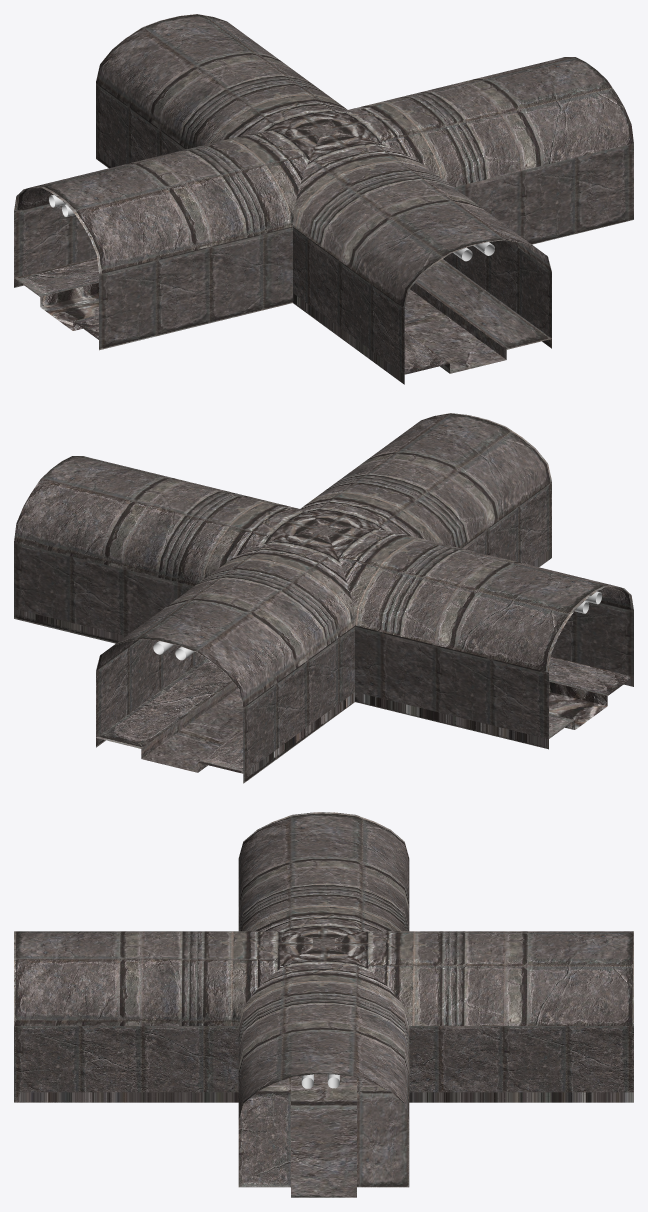
Rendered from 하수구 십자가 통로.fbx.
3 renders of one model, top to bottom at view 1: azimuth 30°, elevation 25°; view 2: azimuth 150°, elevation 25°; view 3: azimuth 270°, elevation 25°, orthographic.
Visible parts, largest first — view 1: 하수구 십자 길, 십자길 바닥, 가운데 파이프; view 2: 하수구 십자 길, 십자길 바닥, 가운데 파이프; view 3: 하수구 십자 길, 십자길 바닥.
Part boxes in pixels (x1=…): 하수구 십자 길: x1=14, y1=14, x2=633, y2=374; 십자길 바닥: x1=14, y1=152, x2=631, y2=384; 가운데 파이프: x1=49, y1=143, x2=494, y2=261; 하수구 십자 길: x1=14, y1=413, x2=633, y2=783; 십자길 바닥: x1=14, y1=548, x2=633, y2=777; 가운데 파이프: x1=153, y1=511, x2=601, y2=660; 하수구 십자 길: x1=14, y1=812, x2=633, y2=1119; 십자길 바닥: x1=15, y1=1074, x2=633, y2=1197.
Bounding box in the file's own units: 504 × 110 × 504.
